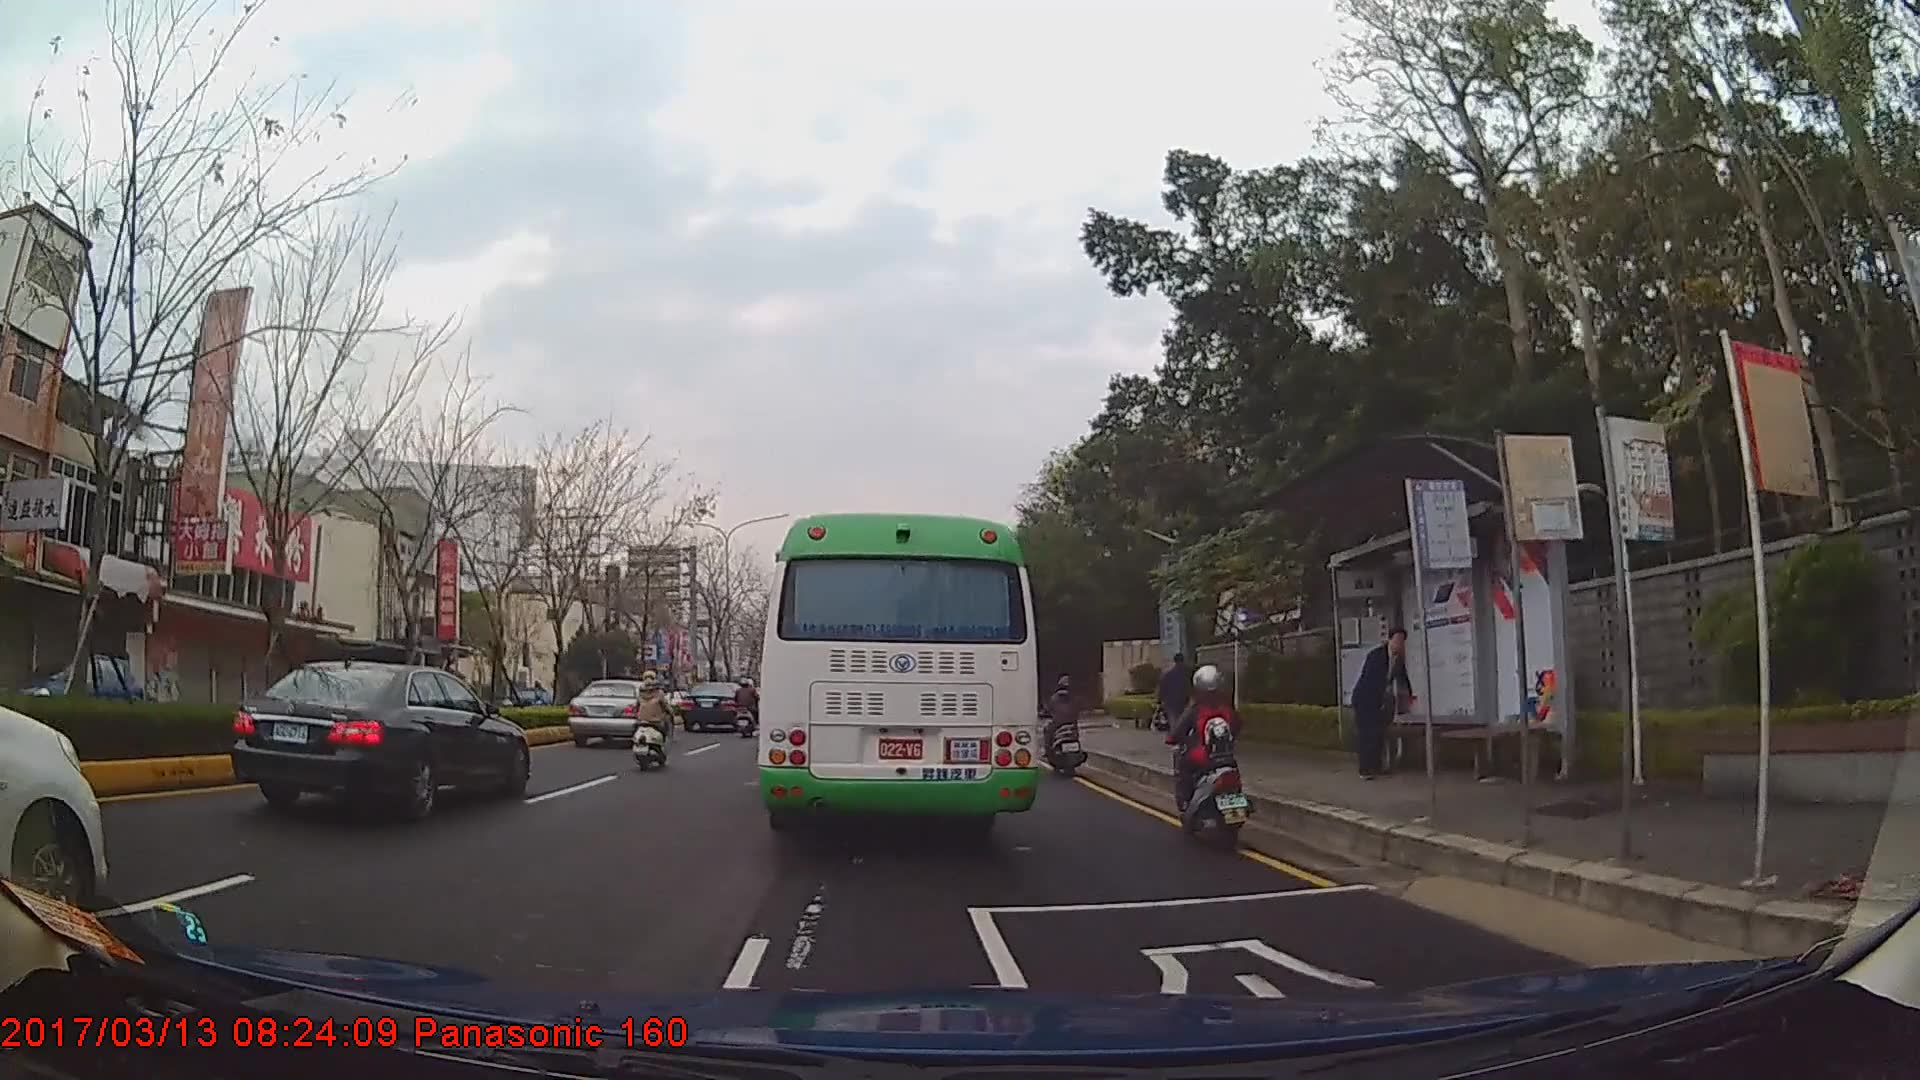pedestrian: (1356, 626, 1416, 784), (1151, 651, 1200, 753)
rider: (1163, 665, 1258, 846), (1042, 673, 1088, 779), (636, 670, 678, 767), (736, 679, 759, 739)
vehicle: (758, 511, 1036, 842), (225, 658, 529, 813), (0, 647, 143, 739), (569, 677, 671, 748), (680, 678, 748, 732)
